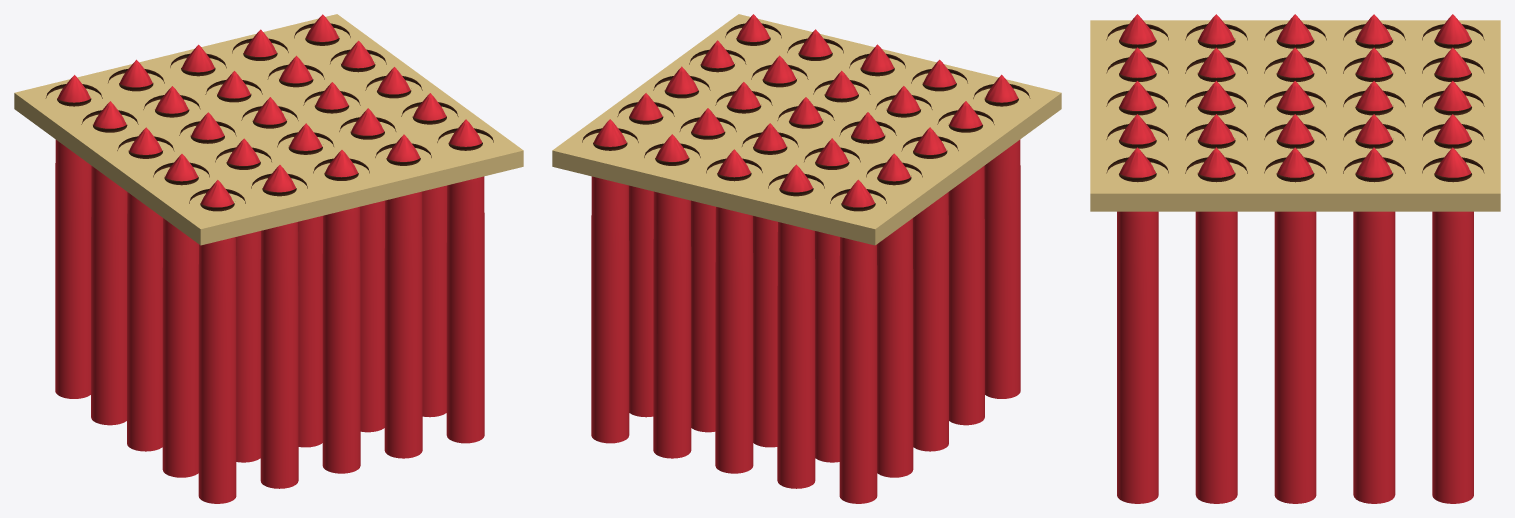
The model's file is ArmadilhaExport.fbx.
The picture shows the model from 3 angles, left to right: view 1: azimuth 30°, elevation 25°; view 2: azimuth 150°, elevation 25°; view 3: azimuth 270°, elevation 25°; orthographic projection. The views are drawn at different scales.
Parts seen in each view (by area): view 1: Torus.024, Cube; view 2: Torus.024, Cube; view 3: Torus.024, Cube.
Part boxes in pixels (x1,y1,x2,y2): Torus.024: (55,14,484,503); Cube: (14,14,523,245); Torus.024: (591,14,1020,503); Cube: (552,14,1061,245); Torus.024: (1117,14,1473,503); Cube: (1090,20,1500,211).
Bounding box in the file's own units: 468 × 439 × 468.
